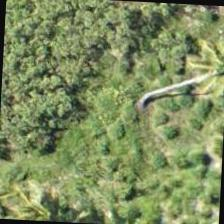Kelapa_Sawit: (98, 58, 193, 153)
